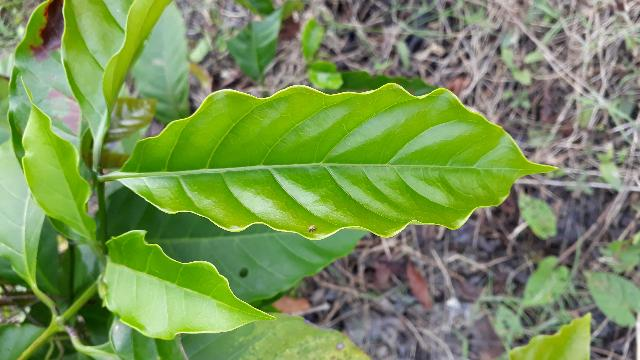healthy: (123, 84, 558, 241)
